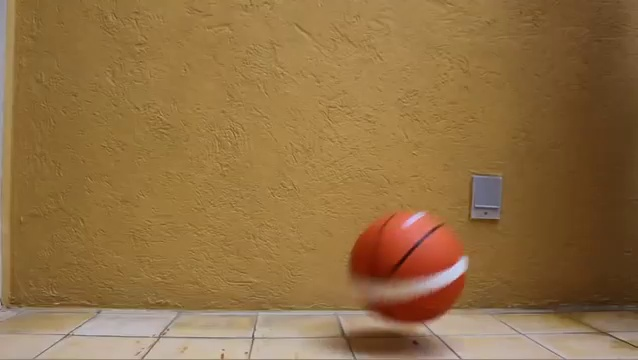ball: (349, 210, 469, 324)
